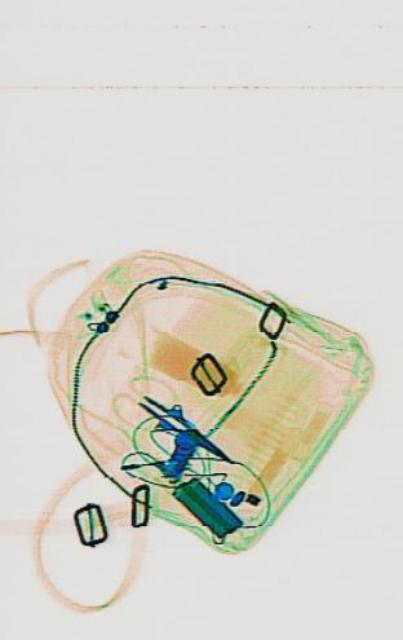Knife: (131, 377, 232, 477)
